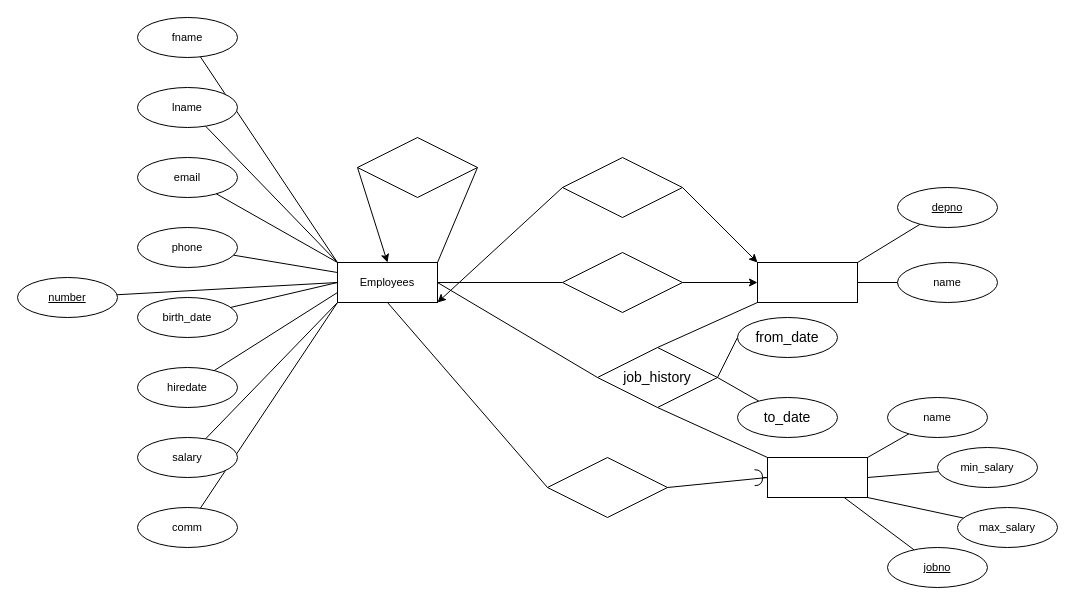
The diagram is 1075 pixels wide and 605 high, and some of its shapes have lost their labels. The box of each missing label's shape, as (x1, y1, x2, y2) in pixels:
Departments: (756, 262, 858, 302)
is chief: (562, 156, 682, 218)
is manager: (356, 136, 478, 198)
Jobs: (766, 456, 868, 498)
works as: (546, 456, 668, 518)
works in: (562, 252, 682, 312)
